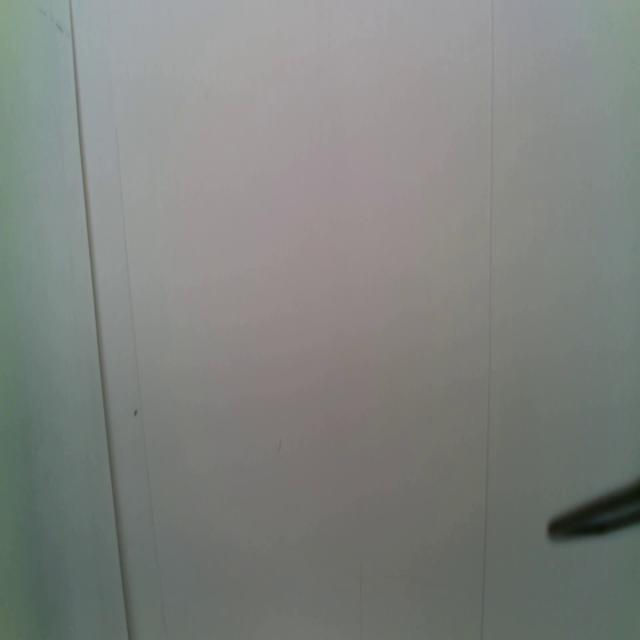crease: (67, 0, 129, 640), (114, 128, 166, 640), (479, 0, 495, 639)
hole: (132, 405, 139, 420)
